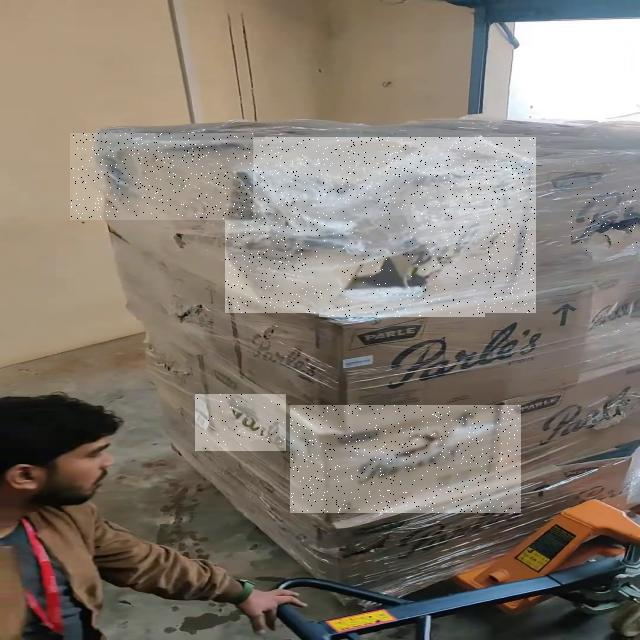leakage: (320, 208, 483, 317), (572, 183, 637, 251)
squeeze: (225, 137, 535, 313)
tear: (291, 405, 519, 513), (71, 134, 253, 219), (195, 395, 285, 449)
